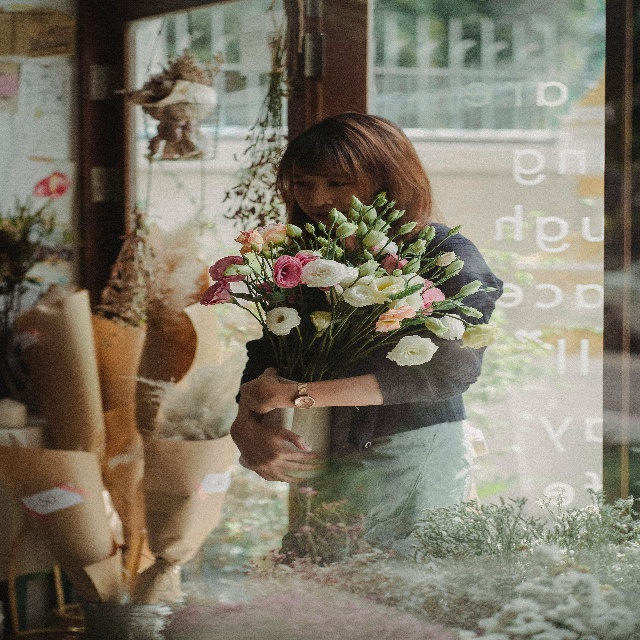Sin_guantes: (244, 422, 328, 486), (241, 364, 280, 416)
